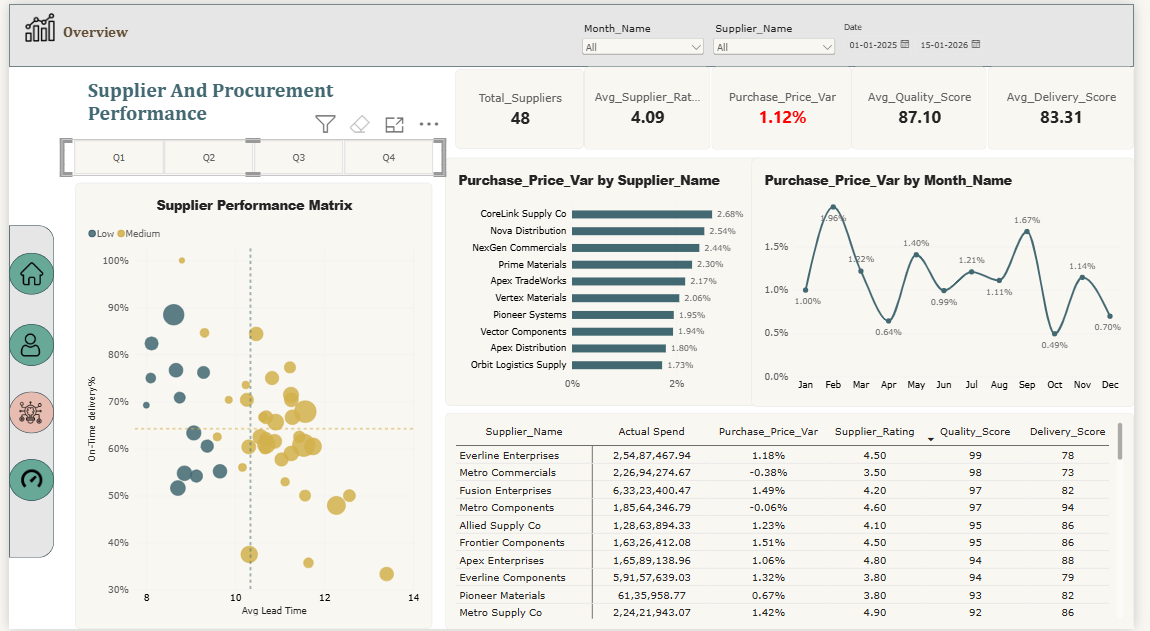

This screenshot's page, from the dashboard's own definition file:
{"tool":"powerbi","page":{"name":"Supplier Performance","canvas":[1800,1000],"ordinal":2},"visuals":[{"type":"shape","box":[0,0,1799.6,100.5],"z":0},{"type":"shape","box":[0,353.6,72,532],"z":1000},{"type":"textbox","box":[85.5,30.2,135.7,53.6],"z":2000},{"type":"image","box":[25.1,0,46.9,75.4],"z":3000},{"type":"textbox","box":[125.4,118.6,550.8,76.3],"z":4000},{"type":"shape","box":[0,398.8,72.1,67],"z":5000},{"type":"shape","box":[0,512.7,72.1,67],"z":6000},{"type":"shape","box":[0,620,72.1,67],"z":7000},{"type":"shape","box":[0,727.2,72.1,67],"z":8000},{"type":"image","box":[18.4,398.8,36.9,67],"z":9000},{"type":"image","box":[18.4,727.2,36.9,67],"z":10000},{"type":"image","box":[16.8,512.7,36.9,67],"z":11000},{"type":"image","box":[16.8,620,36.9,67],"z":12000},{"type":"cardVisual","fields":{"Data":["2nd page measures.Avg_Supplier_Rating"]},"box":[920.8,100,202.8,133.9],"z":13000},{"type":"cardVisual","fields":{"Data":["2nd page measures.Total_Suppliers"]},"box":[713.5,103.4,206.9,128.7],"z":13000,"group":"g2"},{"type":"cardVisual","fields":{"Data":["2nd page measures.Purchase_Price_Var"]},"box":[1123.6,100,225,133.9],"z":14000},{"type":"cardVisual","fields":{"Data":["2nd page measures.Avg_Quality_Score"]},"box":[1348.6,100,216.7,133.9],"z":15000},{"type":"cardVisual","fields":{"Data":["2nd page measures.Avg_Delivery_Score"]},"box":[1565.3,100,234.7,133.9],"z":16000},{"type":"slicer","fields":{"Values":["Dim_date.Month_Name"]},"box":[912.6,28.7,205.3,71.1],"z":17000},{"type":"group","id":"g1","title":"Group 1","box":[713.5,103.4,206.9,128.7],"z":18000},{"type":"slicer","fields":{"Values":["Dim_Supplier.Supplier_Name"]},"box":[1121.8,28.7,205.3,71.1],"z":19000},{"type":"slicer","fields":{"Values":["Dim_date.Date"]},"box":[1327.6,29.9,234.5,71.3],"z":20000},{"type":"slicer","fields":{"Values":["Dim_date.Quarter"]},"box":[84.7,216.9,613.6,57.6],"z":21000},{"type":"scatterChart","title":"Supplier Performance Matrix","fields":{"Category":["Dim_Supplier.Supplier_Name"],"Series":["Dim_Supplier.Risk_Level"],"Size":["1st page measures.Actual Spend"],"X":["1st page measures.Avg Lead Time"],"Y":["1st page measures.On-Time delivery%"]},"box":[105.1,286.4,571.2,713.6],"z":22000},{"type":"clusteredBarChart","fields":{"Category":["Dim_Supplier.Supplier_Name"],"Y":["2nd page measures.Purchase_Price_Var"]},"box":[698.4,246.9,510.9,396.9],"z":23000},{"type":"lineChart","fields":{"Category":["Dim_date.Month_Name"],"Y":["2nd page measures.Purchase_Price_Var"]},"box":[1187.5,245.3,612.5,398.4],"z":24000},{"type":"pivotTable","fields":{"Rows":["Dim_Supplier.Supplier_Name"],"Values":["1st page measures.Actual Spend","2nd page measures.Purchase_Price_Var","Sum(Dim_Supplier.Supplier_Rating)","Sum(Dim_Supplier.Quality_Score)","Sum(Dim_Supplier.Delivery_Score)"]},"box":[698.4,653.1,1101.6,346.9],"z":25000},{"type":"group","id":"g2","title":"Group 2","box":[713.5,103.4,206.9,128.7],"z":28001,"group":"g1"}]}

Visuals, with their boxes in screenshot pixels (x1, y1, x2, y2), scaled from the page's 1800x1000 canvas onto the 1150x631 screenshot:
shape: 0:0:1149:63
shape: 0:223:46:559
textbox: 55:19:141:53
image: 16:0:46:48
textbox: 80:75:432:123
shape: 0:252:46:294
shape: 0:324:46:366
shape: 0:391:46:433
shape: 0:459:46:501
image: 12:252:35:294
image: 12:459:35:501
image: 11:324:34:366
image: 11:391:34:433
cardVisual - 2nd page measures.Avg_Supplier_Rating: 588:63:718:148
cardVisual - 2nd page measures.Total_Suppliers: 456:65:588:146
cardVisual - 2nd page measures.Purchase_Price_Var: 718:63:862:148
cardVisual - 2nd page measures.Avg_Quality_Score: 862:63:1000:148
cardVisual - 2nd page measures.Avg_Delivery_Score: 1000:63:1149:148
slicer - Dim_date.Month_Name: 583:18:714:63
"Group 1" group: 456:65:588:146
slicer - Dim_Supplier.Supplier_Name: 717:18:848:63
slicer - Dim_date.Date: 848:19:998:64
slicer - Dim_date.Quarter: 54:137:446:173
"Supplier Performance Matrix" scatterChart: 67:181:432:630
clusteredBarChart - Dim_Supplier.Supplier_Name x 2nd page measures.Purchase_Price_Var: 446:156:773:406
lineChart - Dim_date.Month_Name x 2nd page measures.Purchase_Price_Var: 759:155:1149:406
pivotTable - Dim_Supplier.Supplier_Name x 1st page measures.Actual Spend: 446:412:1149:630
"Group 2" group: 456:65:588:146
